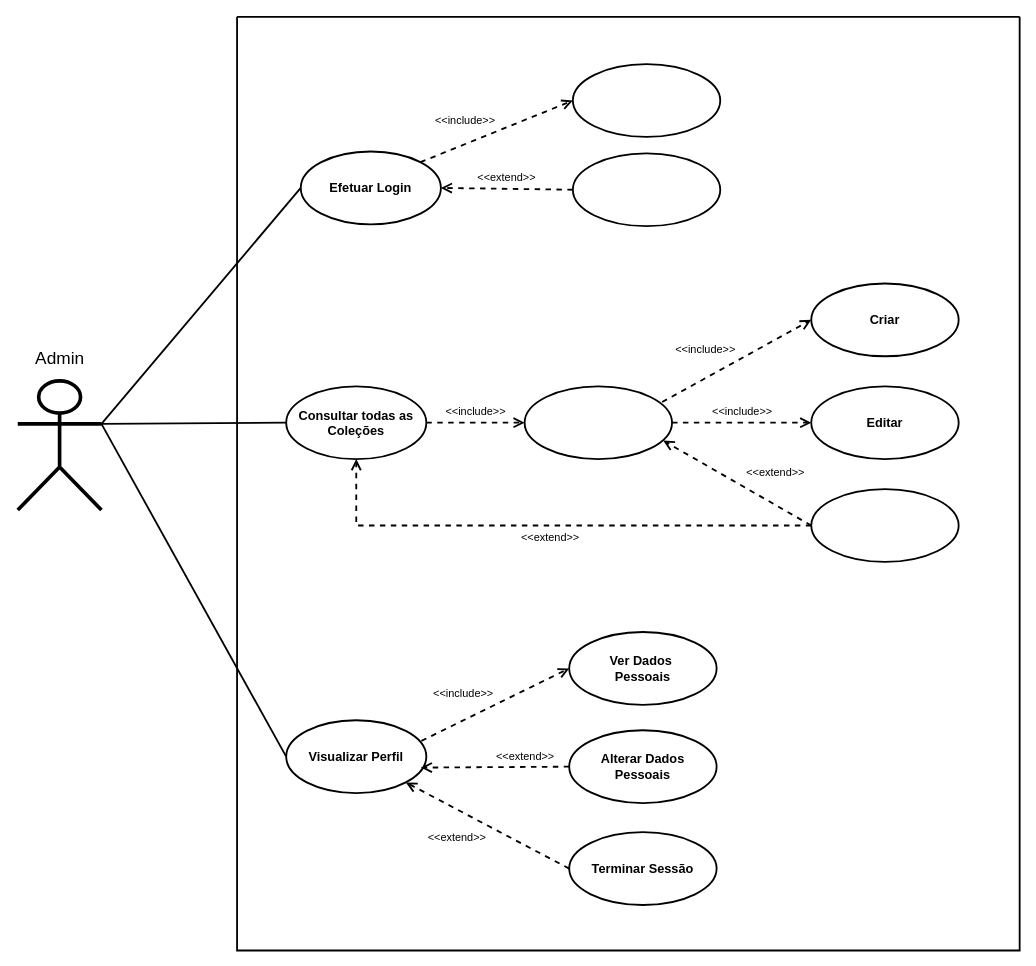
This 1036x966 diagram has some shape labels left out. The shapes that lost their labels are listed below. From the top down, each one's box as (x1, y1, x2, y2) in pixels, then its label:
(571, 63, 721, 137): Verificar Autenticação
(571, 152, 721, 227): Recuperar Palavra Pass
(523, 385, 672, 460): Visualizar Ficha Técnica
(810, 488, 959, 562): Pesquisar
